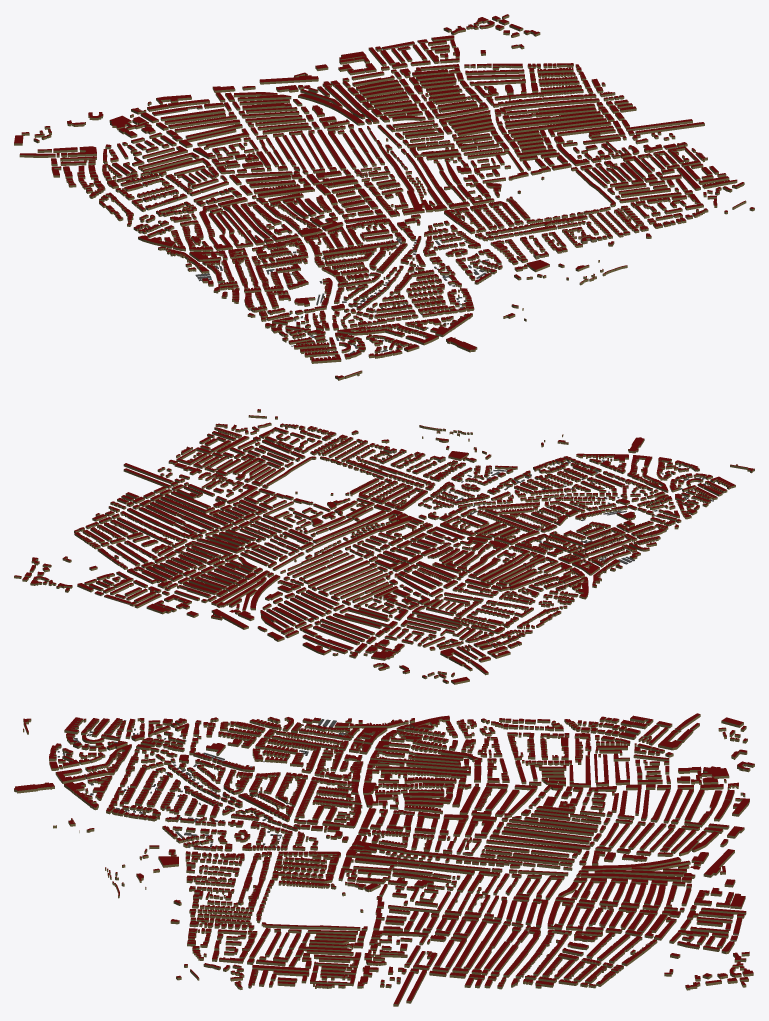
3 views of the same model, one above another, from view 1: azimuth 30°, elevation 25°; view 2: azimuth 150°, elevation 25°; view 3: azimuth 270°, elevation 25° (orthographic). The views are drawn at different scales.
Visible parts, largest first — view 1: Building2361; view 2: Building2361; view 3: Building2361, Building3582, Building3446, Building1148, Building486.
Part boxes in pixels (x1=…): Building2361: x1=379, y1=145, x2=430, y2=215; Building2361: x1=309, y1=515, x2=423, y2=561; Building2361: x1=352, y1=835, x2=522, y2=865; Building3582: x1=489, y1=834, x2=590, y2=849; Building3446: x1=581, y1=857, x2=681, y2=871; Building1148: x1=580, y1=873, x2=681, y2=881; Building486: x1=486, y1=839, x2=581, y2=854.
Size of the model in its own units: 1835 by 12.5 by 1974.
